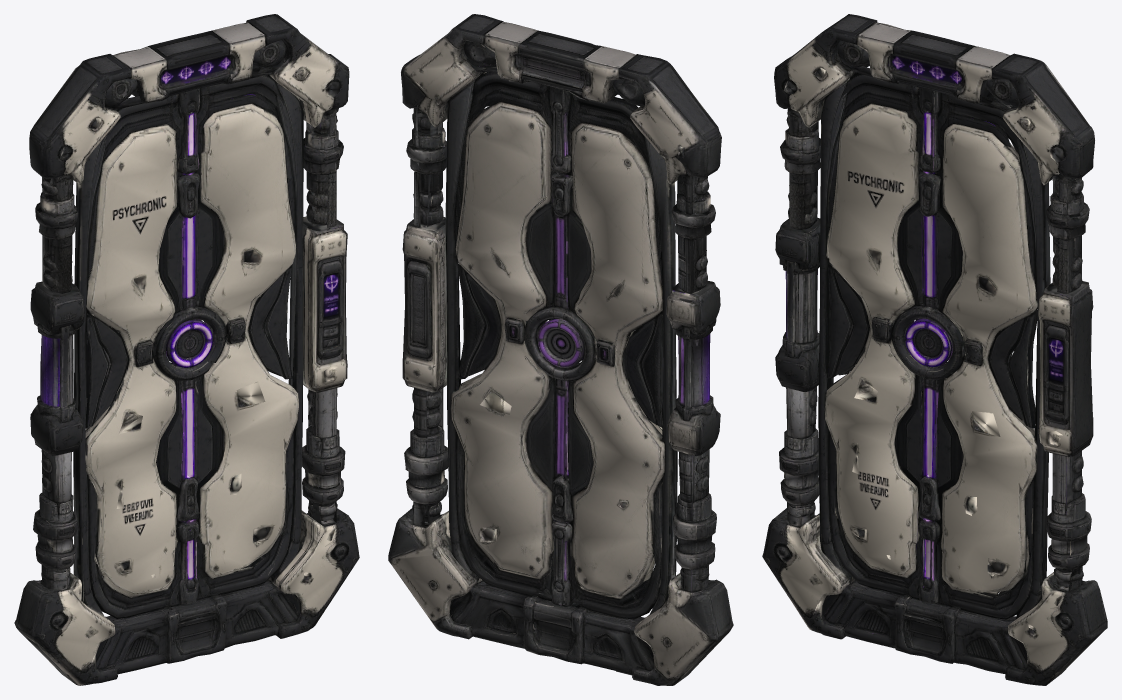
The model's file is Door-01.glb.
The picture shows the model from 3 angles, left to right: view 1: azimuth 30°, elevation 25°; view 2: azimuth 150°, elevation 25°; view 3: azimuth 330°, elevation 25°; orthographic projection.
Visible parts, largest first — view 1: mesh_node; view 2: mesh_node; view 3: mesh_node.
Boxes of the visible parts, x1,y1,x2,y2 form: mesh_node: [14, 14, 359, 685]; mesh_node: [388, 14, 733, 685]; mesh_node: [762, 14, 1107, 685].
Size of the model in its own units: 0.5664 by 1 by 0.0723.
1 material, 1 textured.
